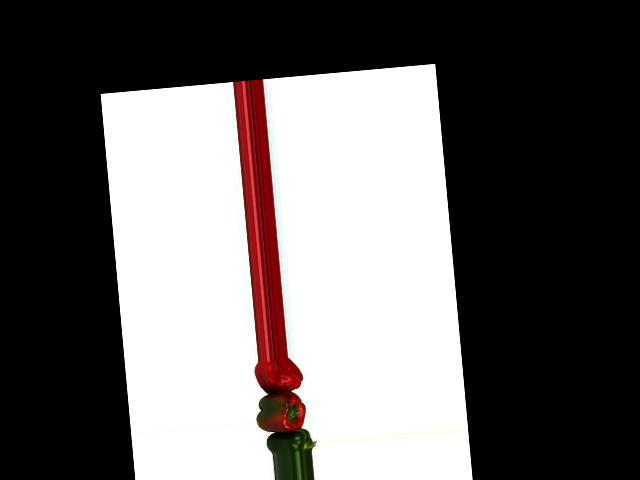bell_pepper: (251, 356, 308, 396)
